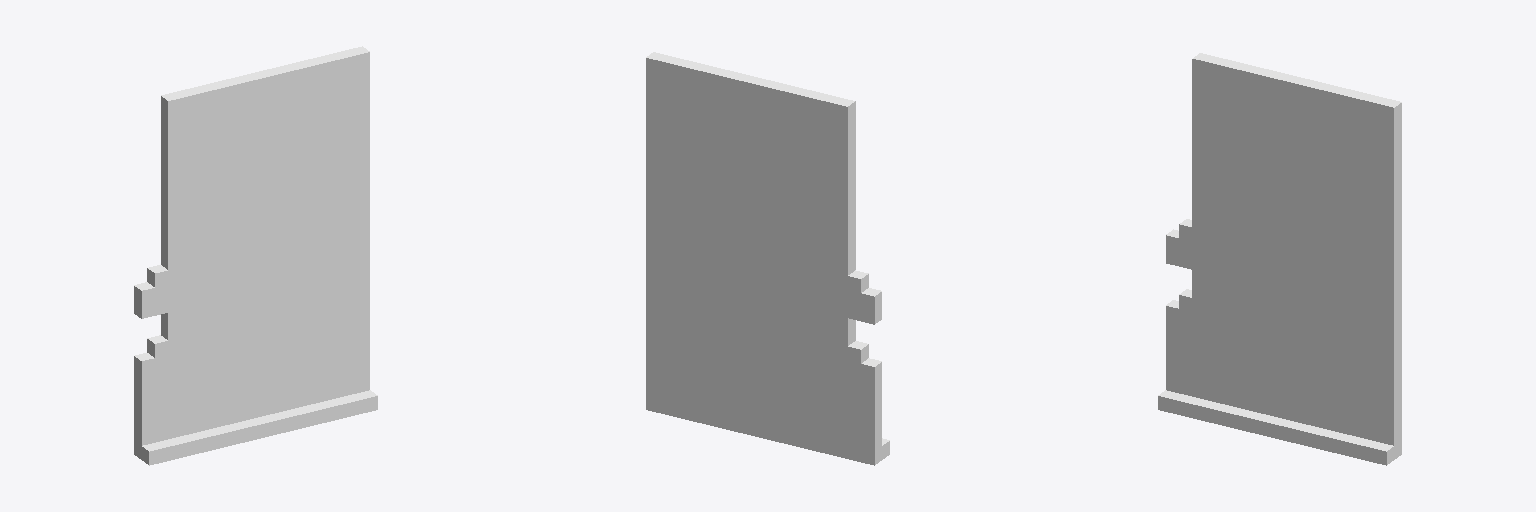
The model's file is micro-sd.obj.
3 renders of one model, left to right at view 1: azimuth 30°, elevation 25°; view 2: azimuth 150°, elevation 25°; view 3: azimuth 330°, elevation 25°, orthographic.
Parts seen in each view (by area): view 1: micro-sd; view 2: micro-sd; view 3: micro-sd.
Part boxes in pixels (x1,y1,x2,y2): micro-sd: (134,46,377,465); micro-sd: (646,52,889,465); micro-sd: (1158,53,1401,465).
Bounding box in the file's own units: 17 × 25 × 2.